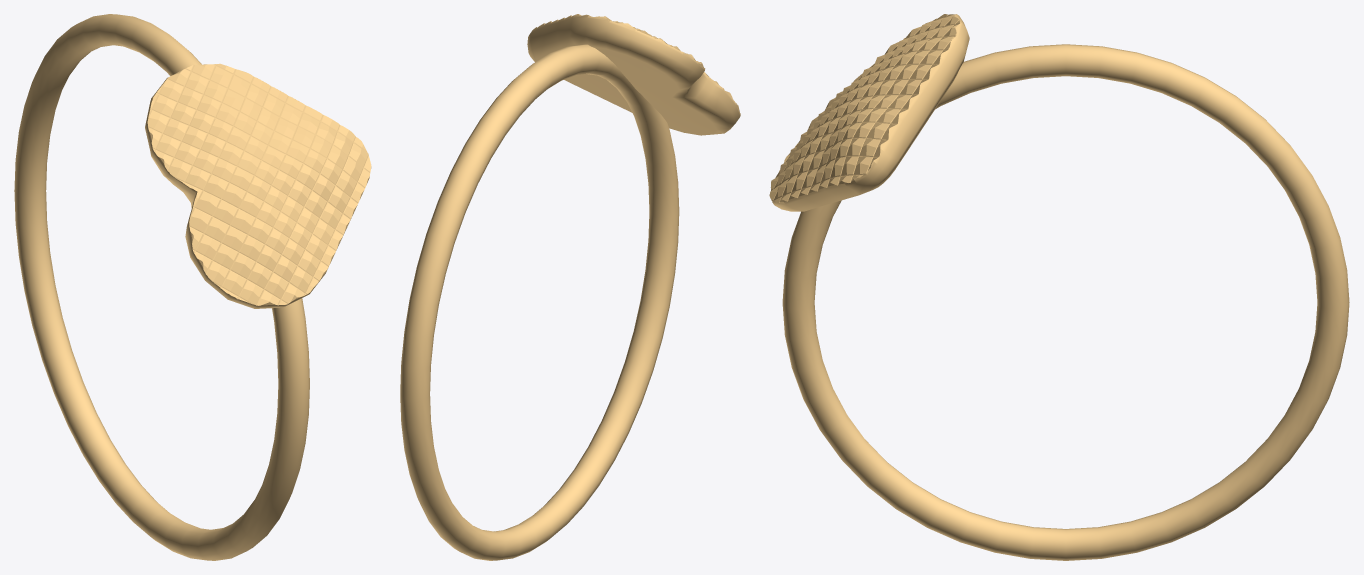
The model's file is HeartRing.glb.
The picture shows the model from 3 angles, left to right: view 1: azimuth 30°, elevation 25°; view 2: azimuth 150°, elevation 25°; view 3: azimuth 270°, elevation 25°; orthographic projection. The views are drawn at different scales.
Visible parts, largest first — view 1: HeartRing; view 2: HeartRing; view 3: HeartRing.
Boxes of the visible parts, x1=… form: HeartRing: x1=14, y1=14, x2=371, y2=560; HeartRing: x1=400, y1=14, x2=740, y2=560; HeartRing: x1=769, y1=14, x2=1349, y2=560.
Size of the model in its own units: 0.9129 by 2.3 by 2.3.
